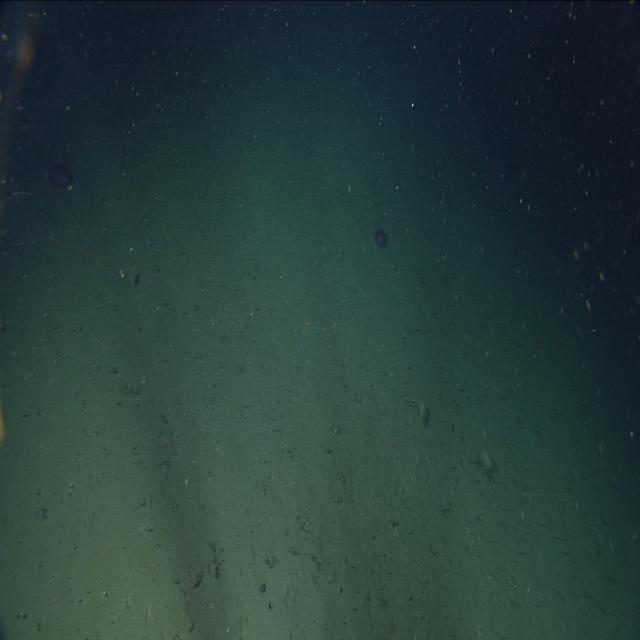Brittle Star: (140, 594, 160, 627), (135, 513, 153, 540)
Not Brittle Star: (1, 165, 32, 211), (45, 156, 75, 194), (475, 440, 497, 480), (370, 222, 392, 254), (415, 389, 430, 424)
